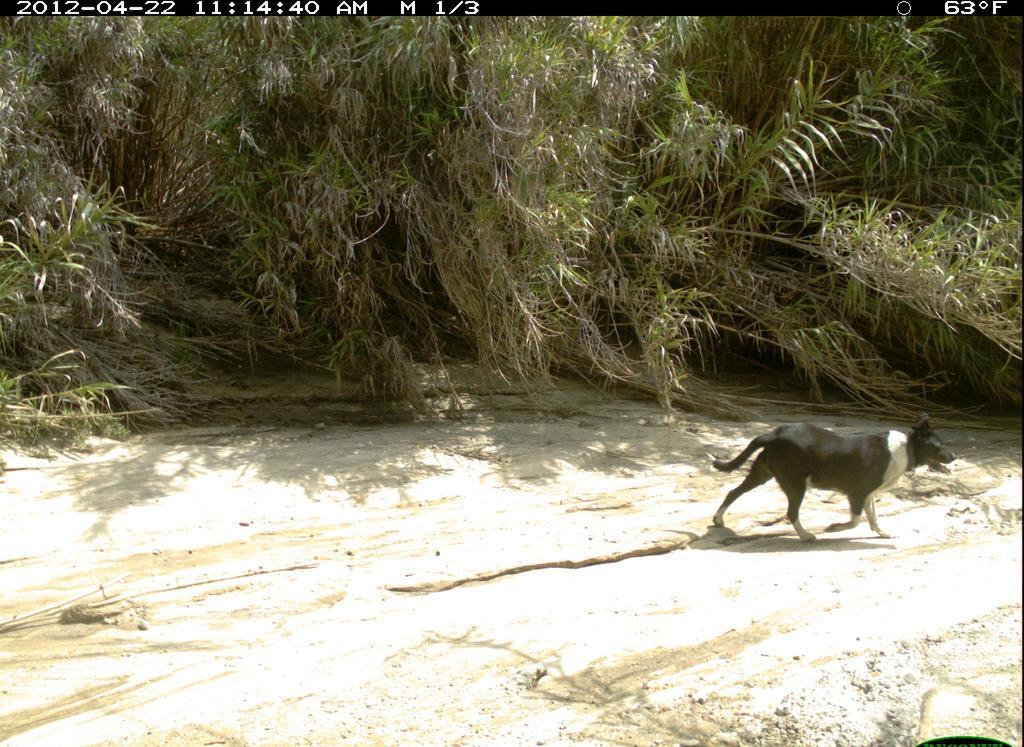dog: (705, 408, 964, 551)
